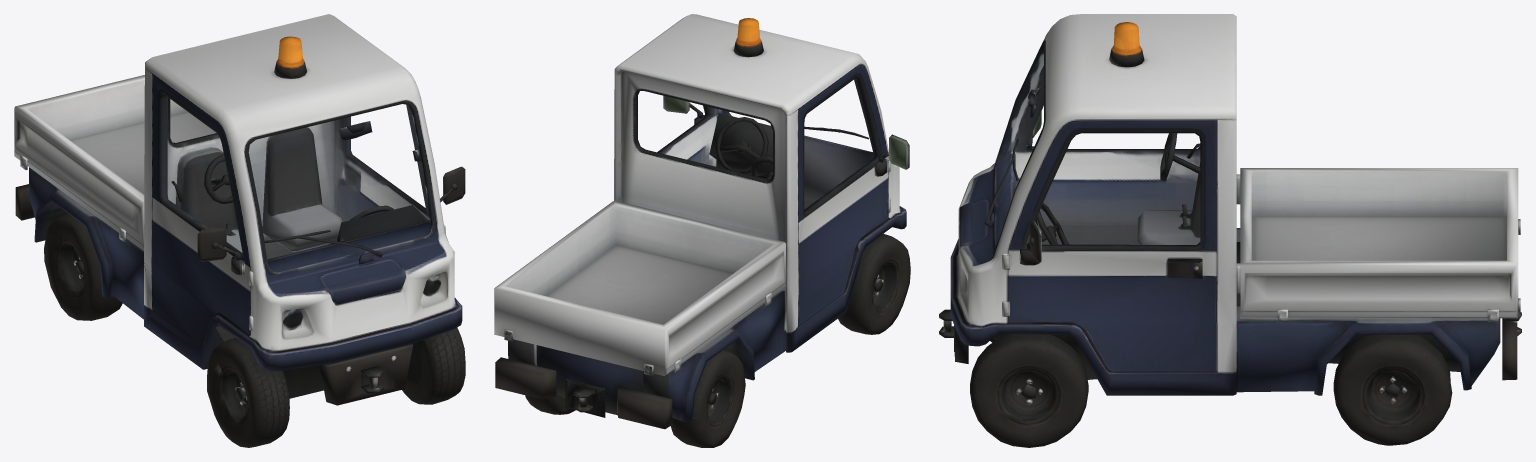
Rendered from carro_servico.glb.
The picture shows the model from 3 angles, left to right: view 1: azimuth 30°, elevation 25°; view 2: azimuth 150°, elevation 25°; view 3: azimuth 270°, elevation 25°; orthographic projection. The views are drawn at different scales.
Parts seen in each view (by area): view 1: Carro de serviço aeroportuário; view 2: Carro de serviço aeroportuário; view 3: Carro de serviço aeroportuário.
Part boxes in pixels (x1,y1,x2,y2): Carro de serviço aeroportuário: (14,14,465,447); Carro de serviço aeroportuário: (494,14,910,447); Carro de serviço aeroportuário: (939,14,1521,447).
Size of the model in its own units: 0.5645 by 0.709 by 0.998.
Materials: 1 (1 with a texture image).
